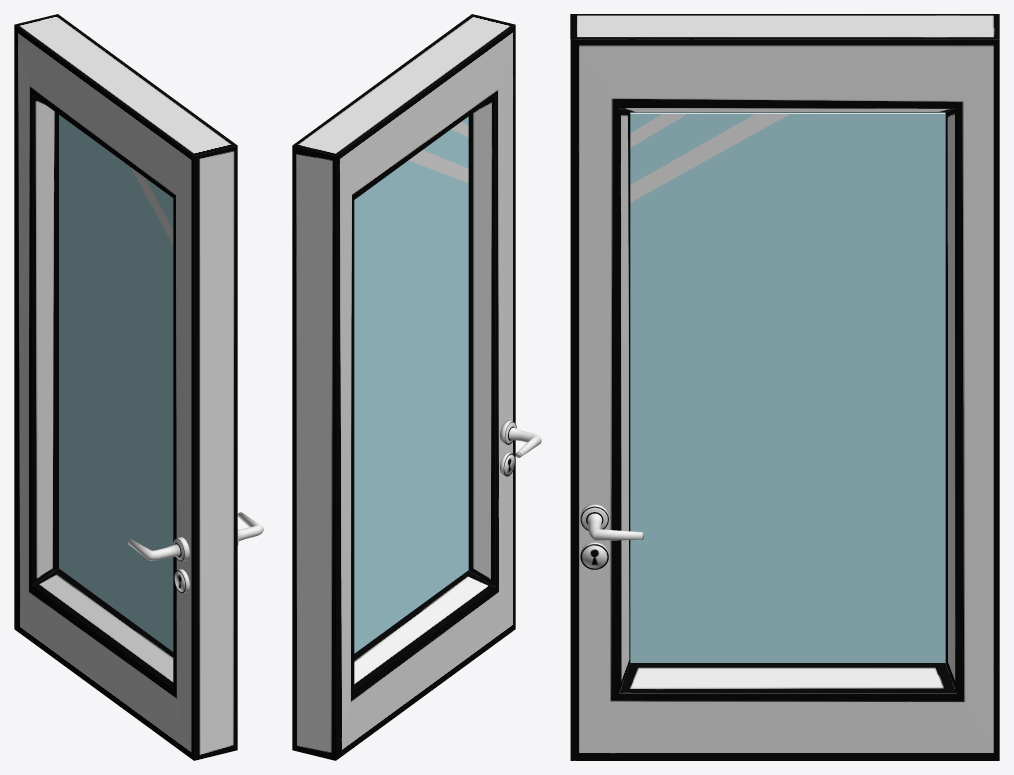
Rendered from doorway.glb.
The picture shows the model from 3 angles, left to right: view 1: azimuth 30°, elevation 25°; view 2: azimuth 150°, elevation 25°; view 3: azimuth 270°, elevation 25°; orthographic projection. The views are drawn at different scales.
Parts seen in each view (by area): view 1: Portone, Vetro Portone, Maniglia.001, Maniglia; view 2: Portone, Vetro Portone, Maniglia.001; view 3: Vetro Portone, Portone, Maniglia.
Boxes of the visible parts, x1,y1,x2,y2 form: Portone: (14,14,237,760); Vetro Portone: (59,115,173,651); Maniglia.001: (128,537,189,561); Maniglia: (237,512,263,545); Portone: (292,14,515,760); Vetro Portone: (354,116,468,653); Maniglia.001: (499,420,541,457); Vetro Portone: (630,113,945,662); Portone: (570,14,999,760); Maniglia: (580,503,643,541).
Size of the model in its own units: 0.612 by 3.06 by 1.65.
Materials: 4 (4 with a texture image).
